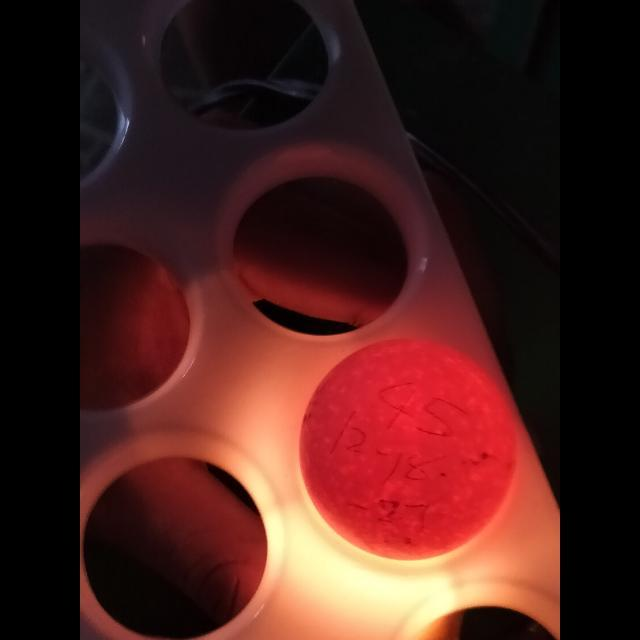Infertile: (302, 338, 518, 554)
